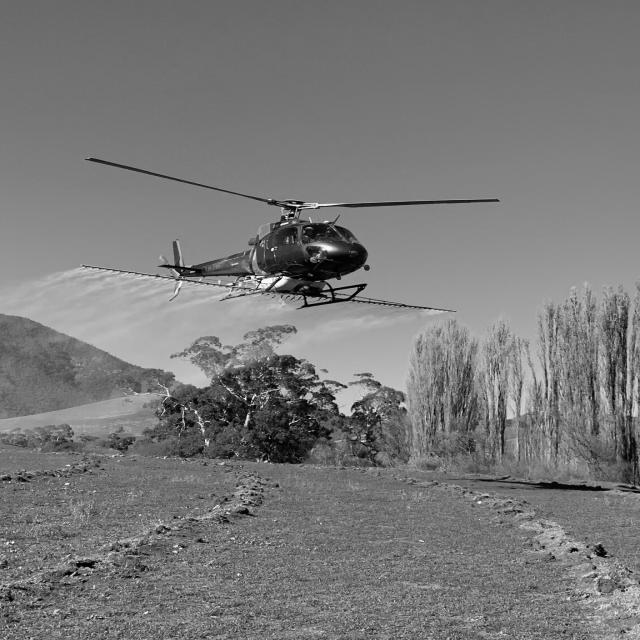helicopter: (97, 130, 530, 326)
